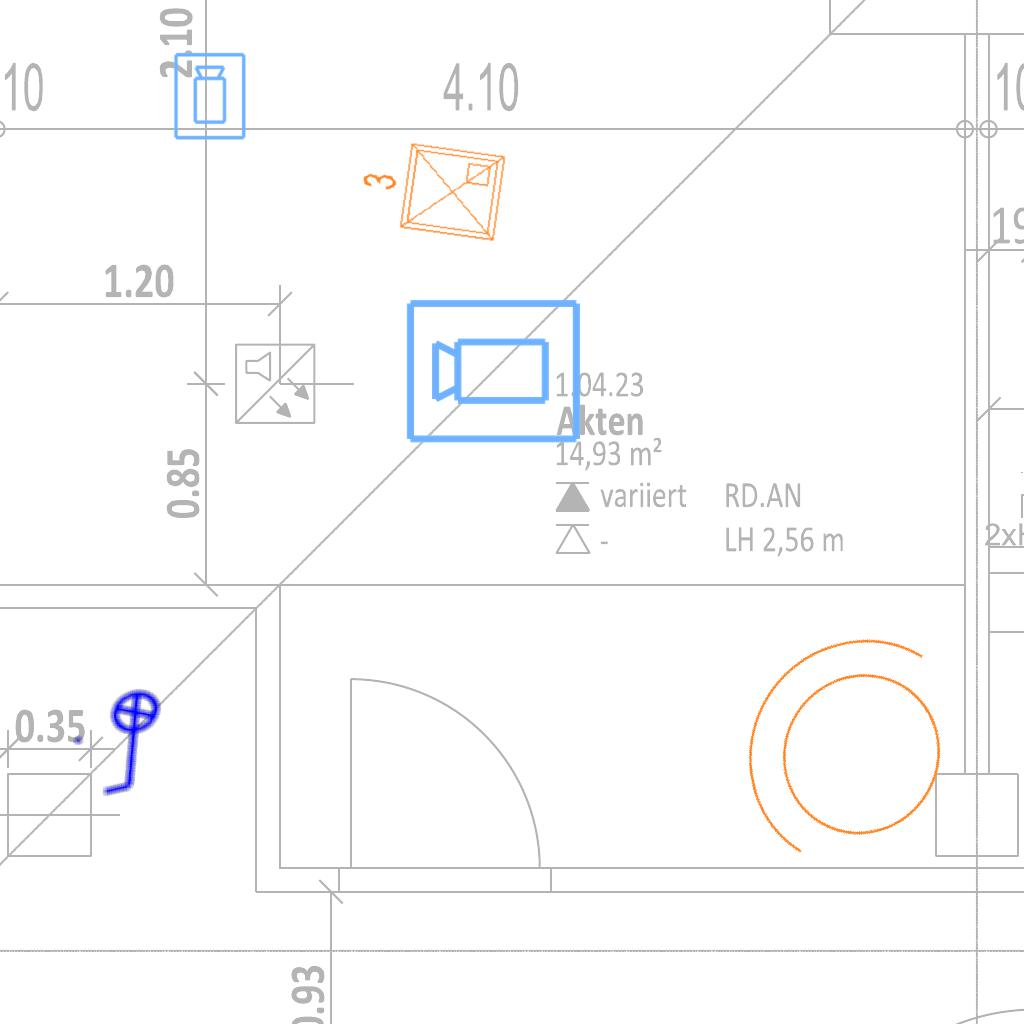Ausschalter_beleuchtet: (60, 674, 204, 812)
Einbaudownlights_LED_Konferenzraeume: (350, 129, 514, 253)
KFO_Kamera_mit_Festobjektiv: (403, 293, 585, 447), (172, 51, 249, 142)
Scheinwerfer_fuer_Alarmbeleuchtung: (684, 582, 1016, 927)
